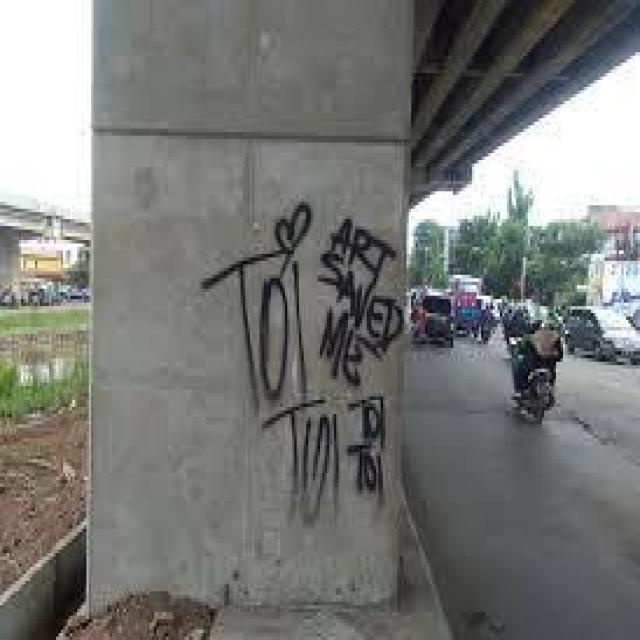nonspitting: (200, 202, 404, 502)
